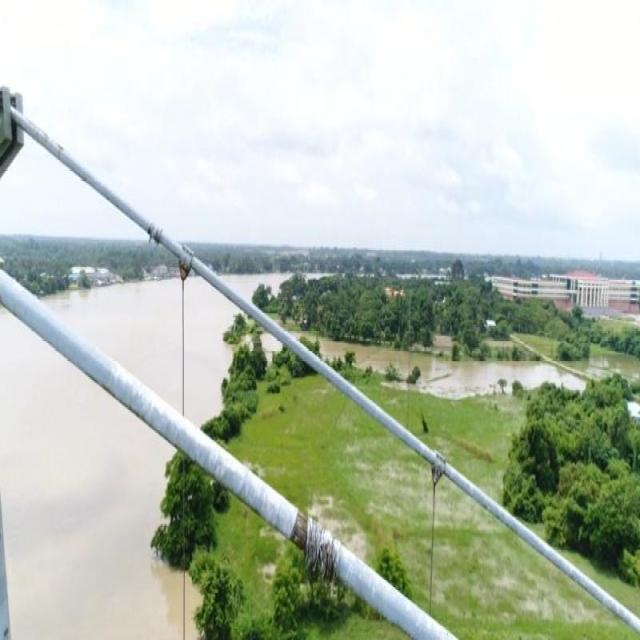corrosion: (290, 507, 340, 591), (178, 256, 190, 285), (148, 222, 162, 243), (430, 463, 441, 487)
